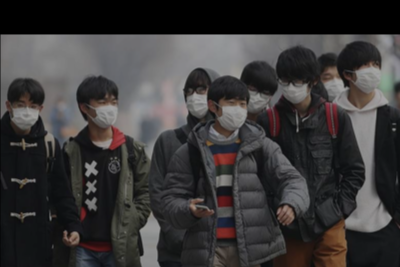with_mask: (353, 60, 384, 95), (88, 95, 119, 129), (276, 76, 311, 104), (217, 98, 246, 131), (184, 83, 210, 117), (11, 98, 40, 128), (322, 69, 346, 100), (243, 86, 271, 112)
